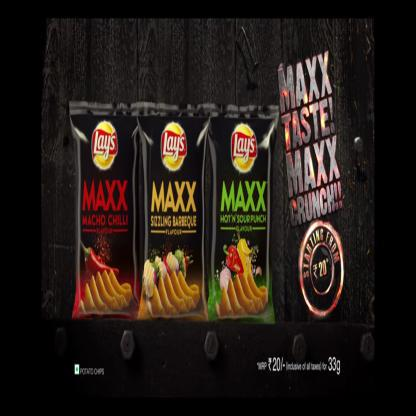max_chili: (70, 104, 140, 315)
maxx_sizzling_barbeque: (142, 110, 206, 322)
